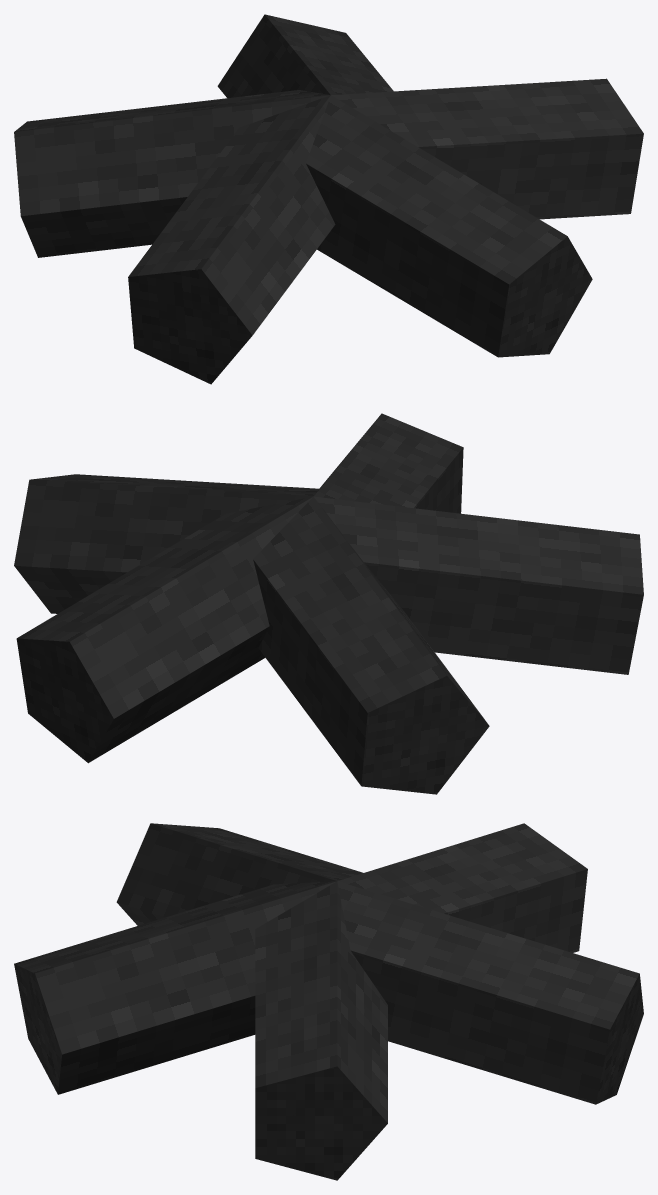
The model's file is campfire.glb.
3 renders of one model, top to bottom at view 1: azimuth 30°, elevation 25°; view 2: azimuth 150°, elevation 25°; view 3: azimuth 270°, elevation 25°, orthographic. The views are drawn at different scales.
Parts seen in each view (by area): view 1: campfire; view 2: campfire; view 3: campfire.
Part boxes in pixels (left/top/right/bottom): campfire: left=14, top=14, right=643, bottom=384; campfire: left=14, top=413, right=643, bottom=794; campfire: left=14, top=823, right=643, bottom=1180.
Bounding box in the file's own units: 1.27 × 0.3956 × 1.29.
1 material, 1 textured.
